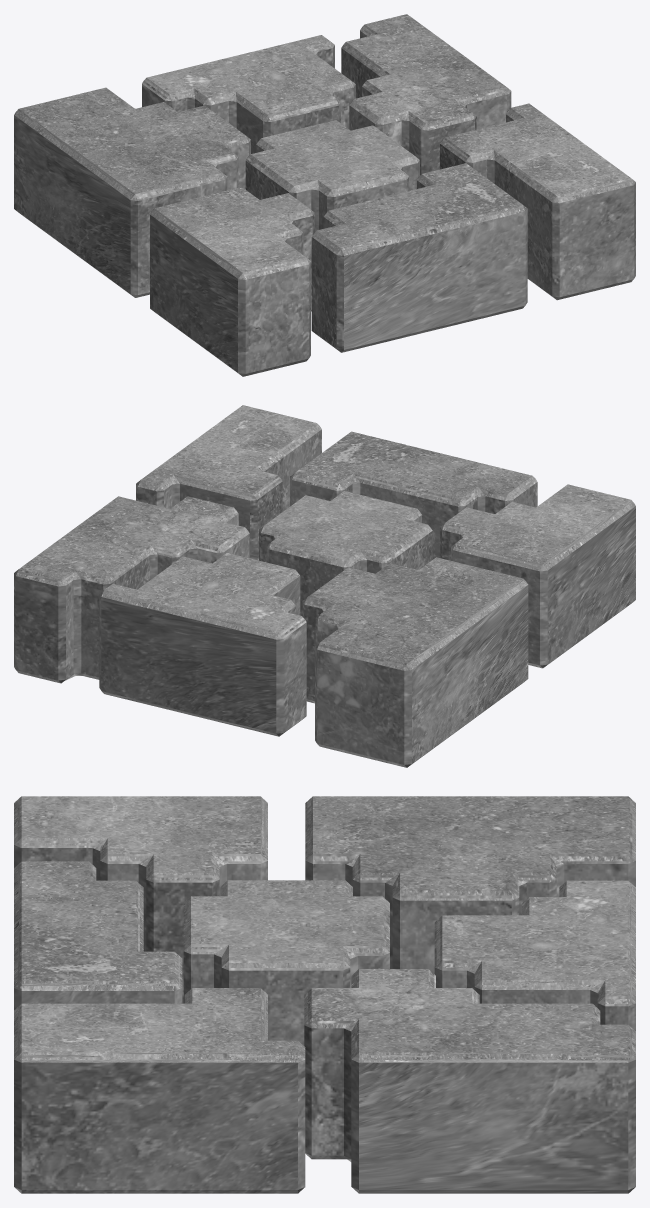
The model's file is broke_tile_anim.fbx.
The picture shows the model from 3 angles, top to bottom: view 1: azimuth 30°, elevation 25°; view 2: azimuth 150°, elevation 25°; view 3: azimuth 270°, elevation 25°; orthographic projection. The views are drawn at different scales.
Parts seen in each view (by area): view 1: Cube; view 2: Cube; view 3: Cube.
Boxes of the visible parts, box(x1,y1,x2,y2) form: Cube: box(14, 14, 635, 376); Cube: box(14, 405, 635, 767); Cube: box(14, 796, 635, 1193).
Bounding box in the file's own units: 200 × 50 × 200.
1 material, 1 textured.
